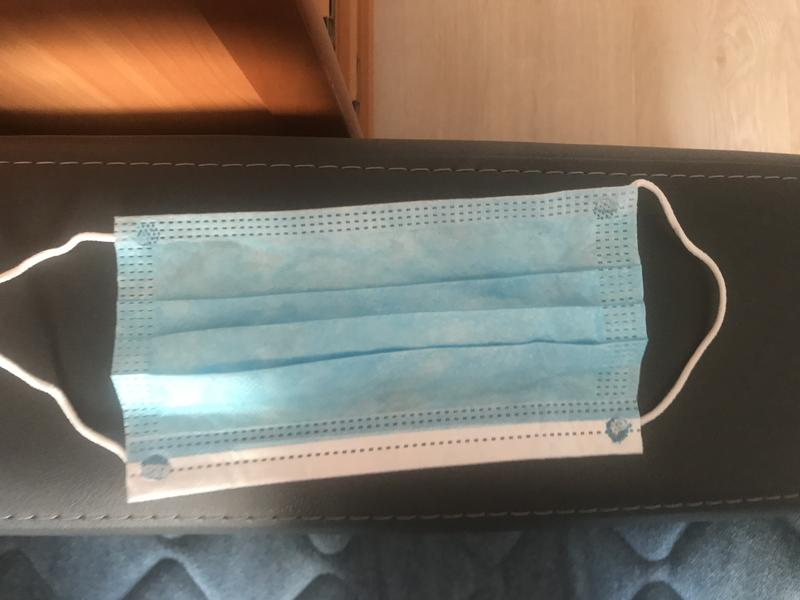medical_mask: (4, 178, 727, 506)
